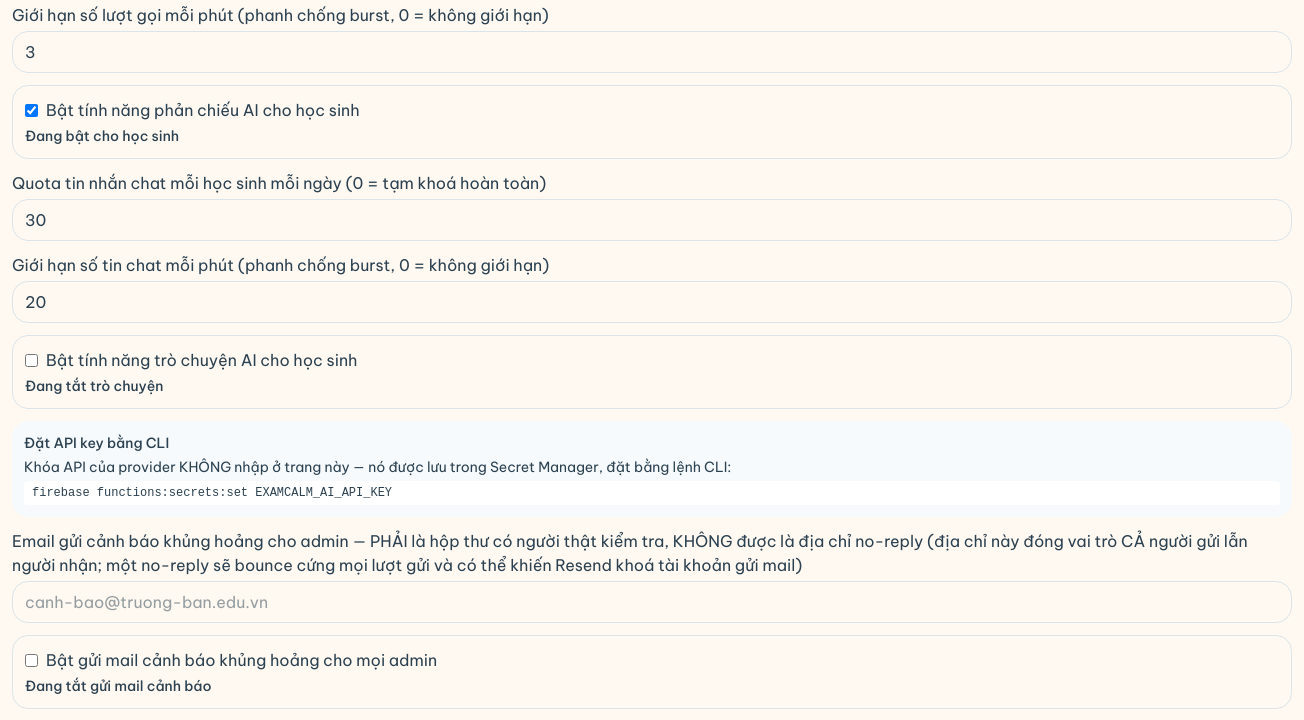
AiConfigEditor — công tắc chat (Task 9) › tick công tắc chat nhưng CHƯA lưu -> hiện trạng thái TƯƠNG LAI, không khẳng định sai hiện tại
The width and height of the screenshot is (1304, 720).
(page scrolled)
Click the checkbox labelled "Bật tính năng trò chuyện AI cho học sinh" at (32, 360), box [25,354,38,366]
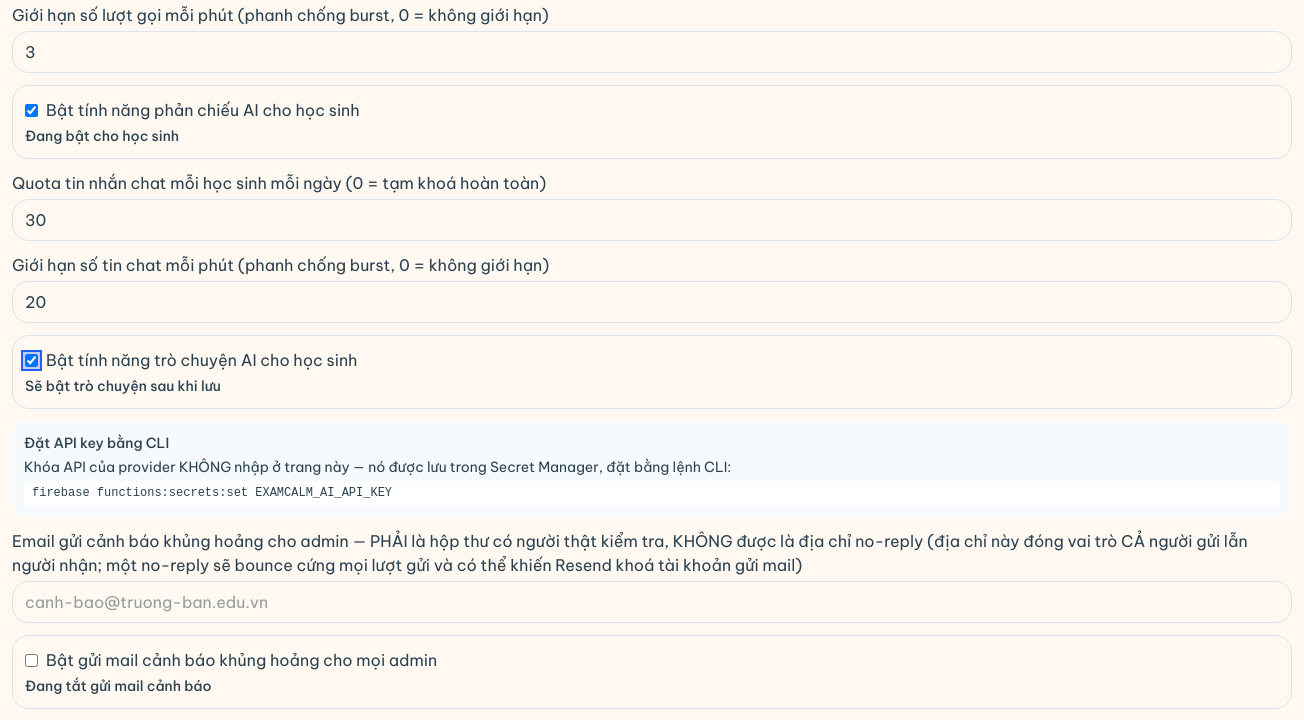
Now the text "Sẽ bật trò chuyện sau khi lưu" is shown, box [25,377,221,395]
